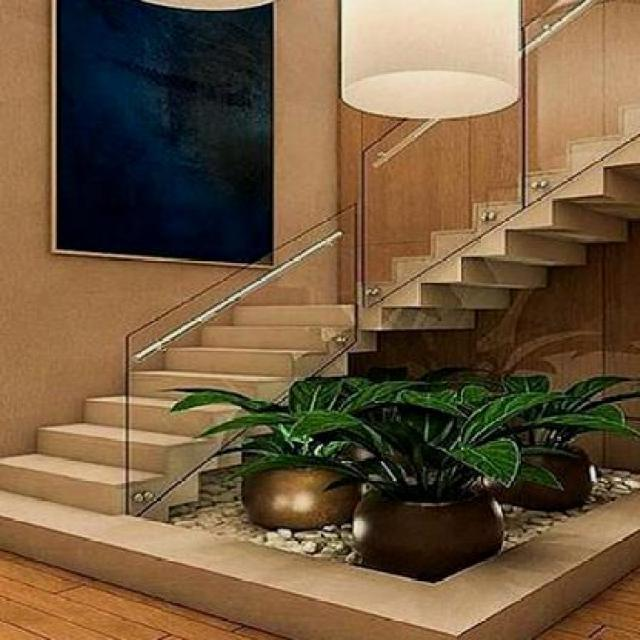stair: (0, 248, 371, 546), (318, 37, 638, 350)
